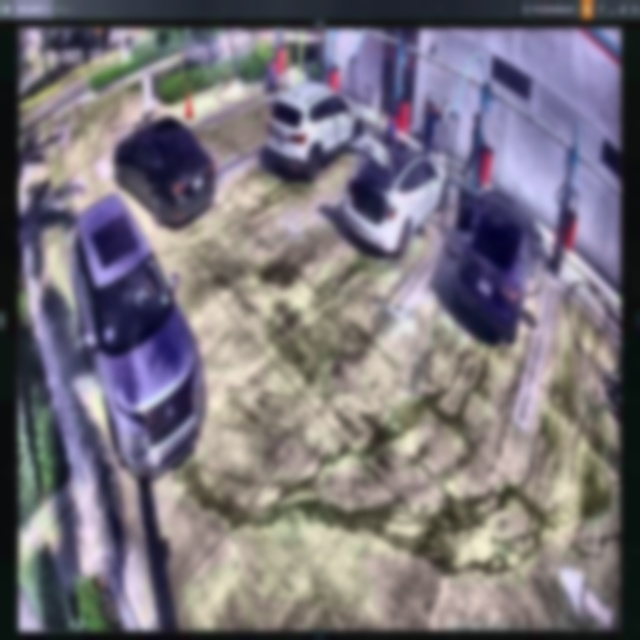Car: (68, 191, 206, 479), (453, 189, 542, 345), (349, 133, 448, 257), (112, 117, 217, 223), (272, 91, 362, 180)
